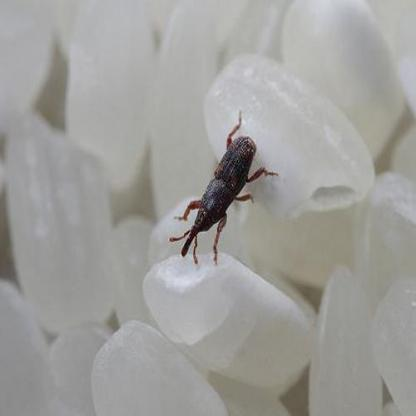rice-bug: (176, 110, 270, 268)
